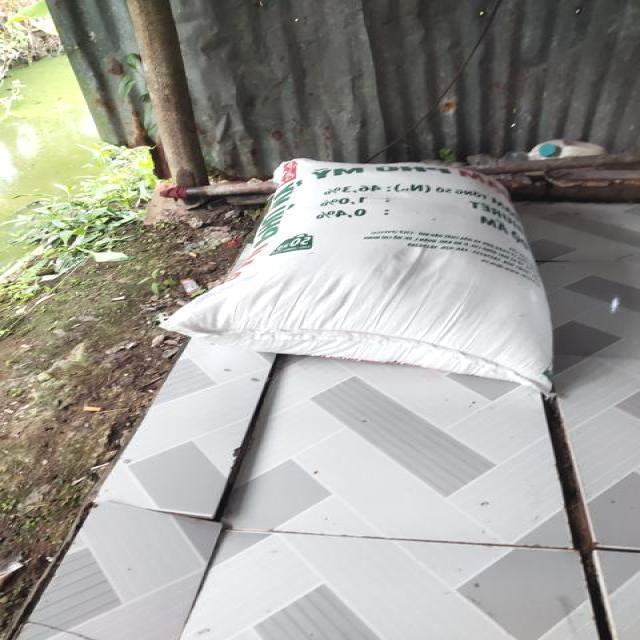gunny_bag: (163, 158, 552, 393)
